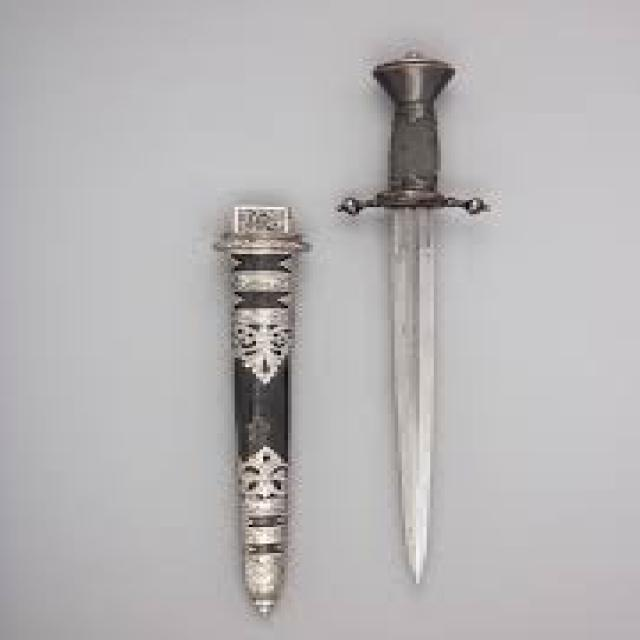Gun: (320, 44, 483, 604)
